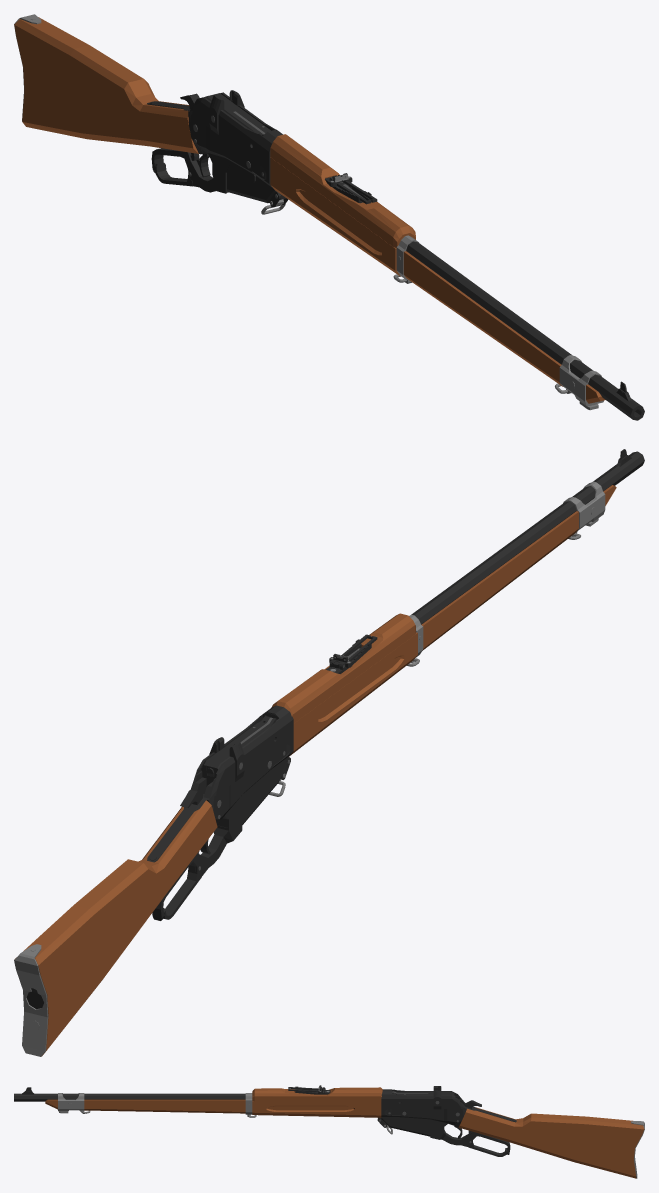
Rendered from Winchester Model 1895 1.fbx.
The picture shows the model from 3 angles, top to bottom: view 1: azimuth 30°, elevation 25°; view 2: azimuth 150°, elevation 25°; view 3: azimuth 270°, elevation 25°; orthographic projection. The views are drawn at different scales.
Visible parts, largest first — view 1: Winchester Model 1895 1, Winchester Model 1895 1 Lever 2, Winchester Model 1895 1 Bolt 1; view 2: Winchester Model 1895 1, Winchester Model 1895 1 Lever 2, Winchester Model 1895 1 Bolt 1; view 3: Winchester Model 1895 1, Winchester Model 1895 1 Lever 2, Winchester Model 1895 1 Bolt 1, Winchester Model 1895 1 Safety 1.
Part boxes in pixels (bbox=[...]): Winchester Model 1895 1: bbox=[14, 14, 644, 420]; Winchester Model 1895 1 Lever 2: bbox=[151, 148, 255, 193]; Winchester Model 1895 1 Bolt 1: bbox=[205, 93, 270, 135]; Winchester Model 1895 1: bbox=[14, 449, 644, 1056]; Winchester Model 1895 1 Lever 2: bbox=[152, 770, 271, 920]; Winchester Model 1895 1 Bolt 1: bbox=[201, 716, 276, 772]; Winchester Model 1895 1: bbox=[14, 1086, 644, 1178]; Winchester Model 1895 1 Lever 2: bbox=[399, 1101, 510, 1154]; Winchester Model 1895 1 Bolt 1: bbox=[392, 1091, 454, 1096]; Winchester Model 1895 1 Safety 1: bbox=[467, 1141, 507, 1156].
Bounding box in the file's own units: 3.37 × 19.87 × 126.
